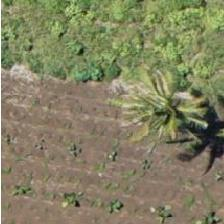coconut_tree: (130, 64, 220, 154)
